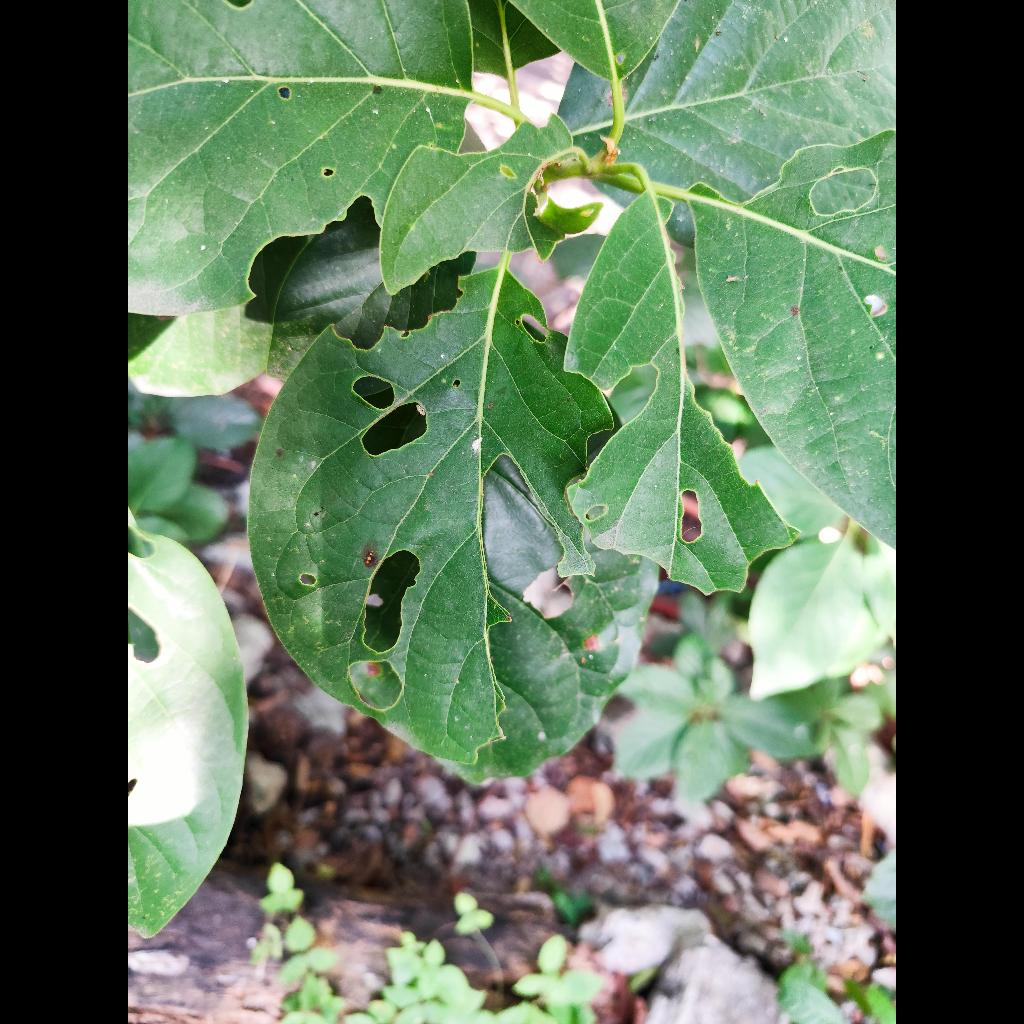plaga: (249, 270, 605, 762), (128, 0, 479, 314), (567, 191, 789, 592)
